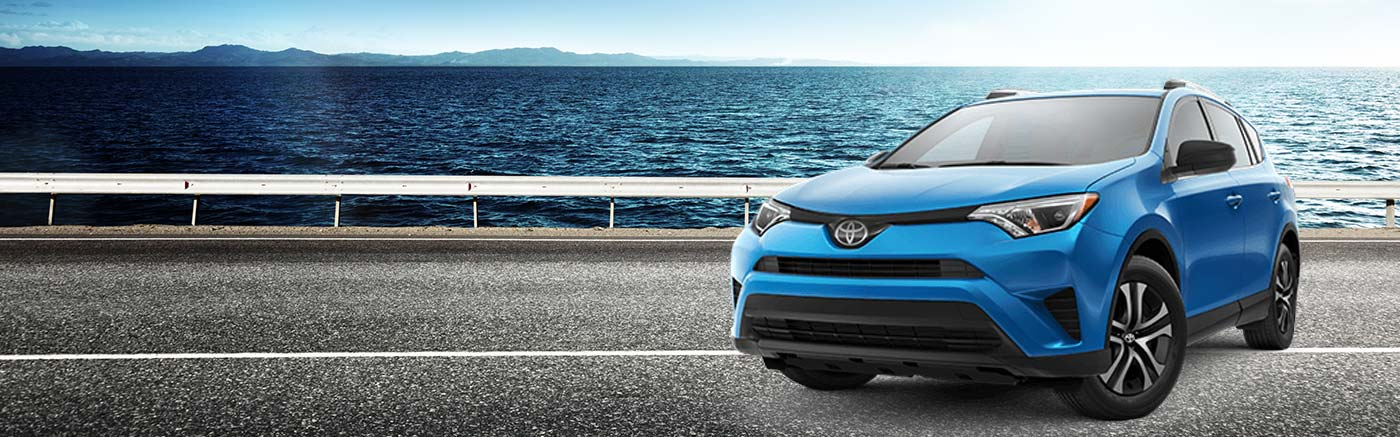Toyota RAV-4: (728, 86, 1303, 423)
